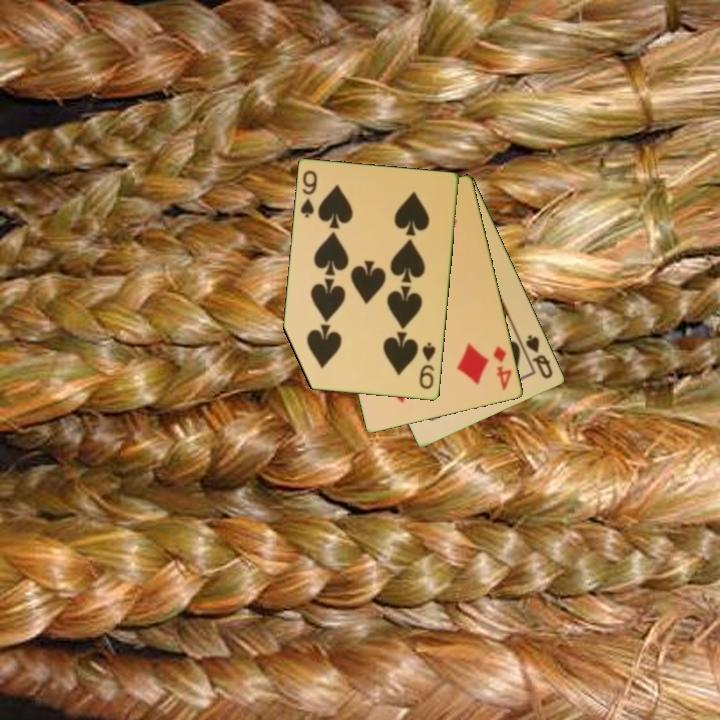4d: (490, 342, 515, 393)
9s: (297, 167, 320, 221), (416, 339, 439, 392)
Qs: (522, 331, 556, 382)
